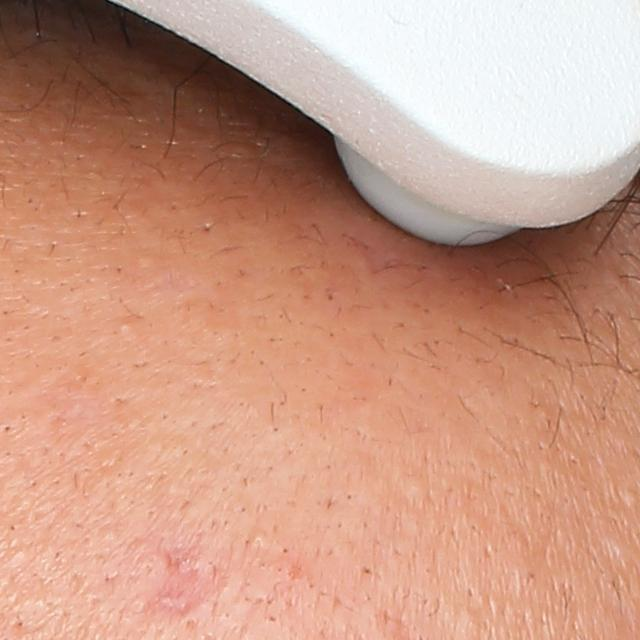atrophic_scar: (147, 546, 238, 631)
comedo: (119, 319, 138, 335)
